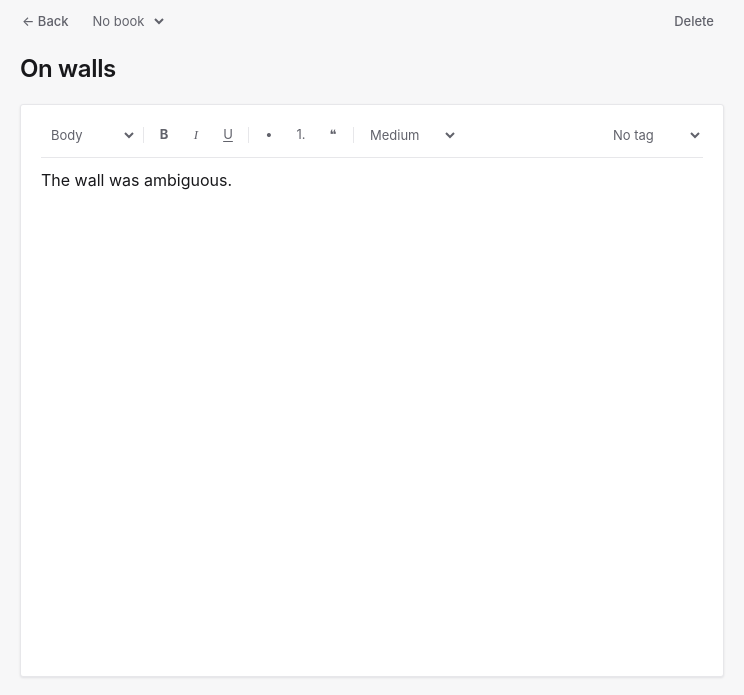
Test: renaming a note from its own page › commits when the field loses focus
This screenshot has width=744, height=695.
Click the button "On walls" at (68,69), box [16, 54, 120, 84]
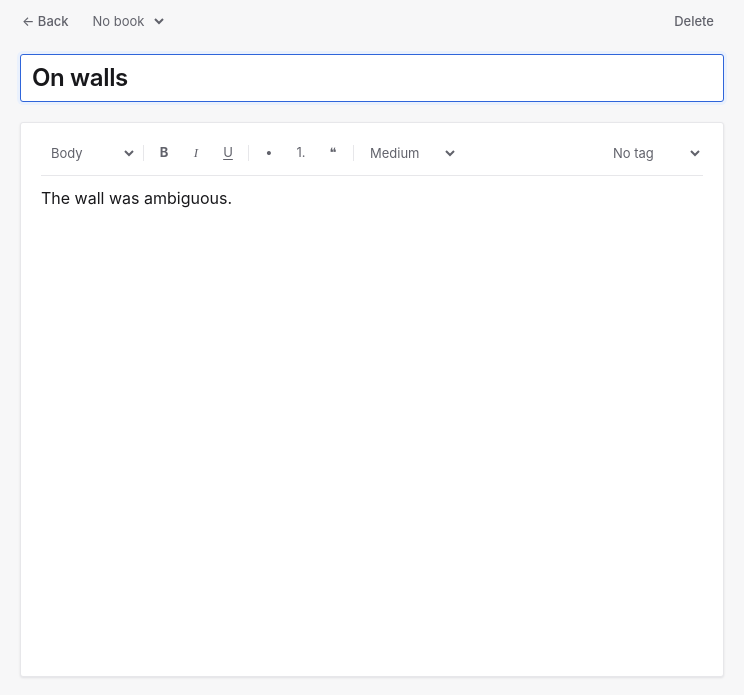
Type "!" into the field named "Note title" at (372,78), box [20, 54, 724, 102]
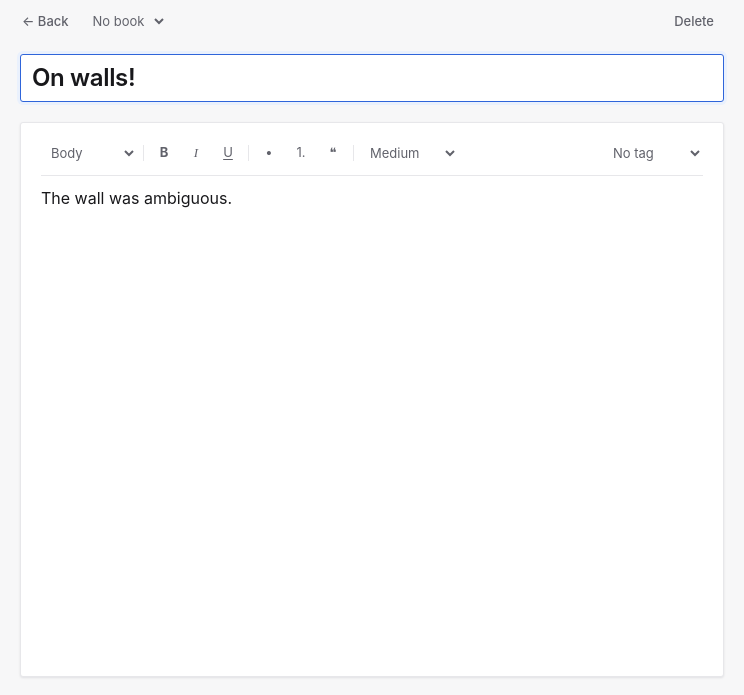
Press Tab
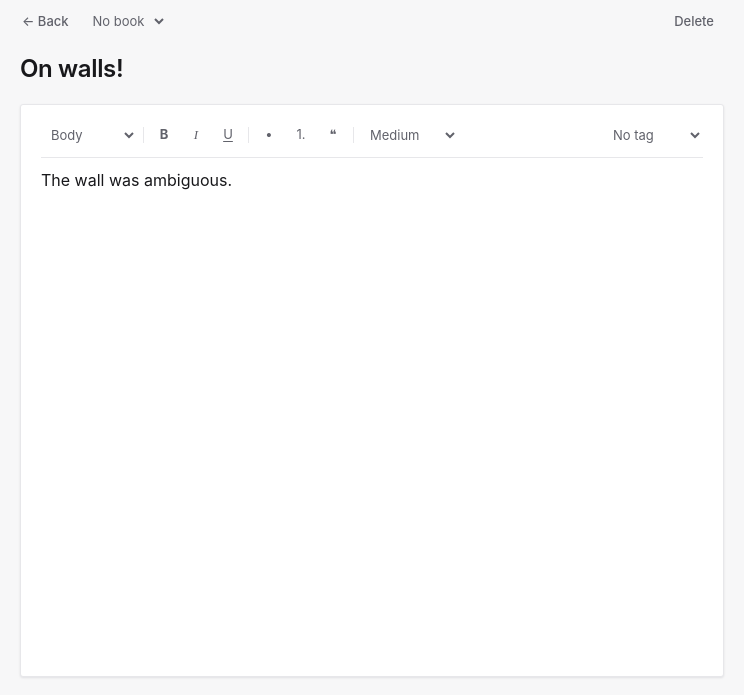
Result: the button "On walls!" is shown at [16, 54, 127, 84]
